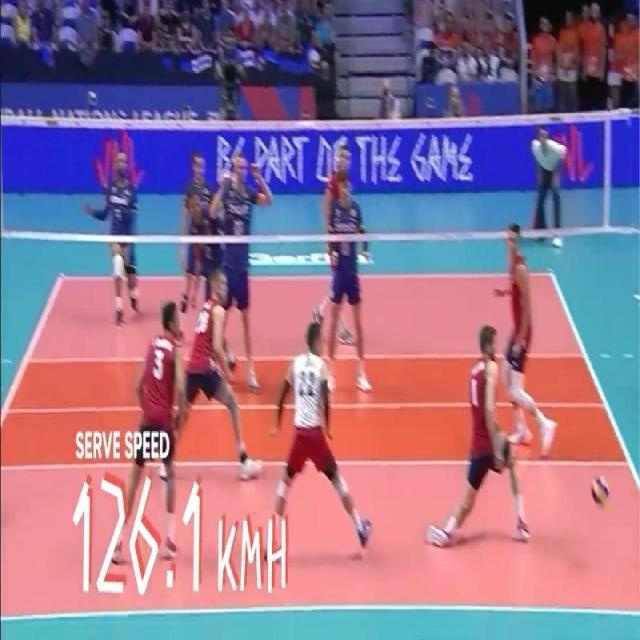volleyball: (591, 473, 608, 509)
